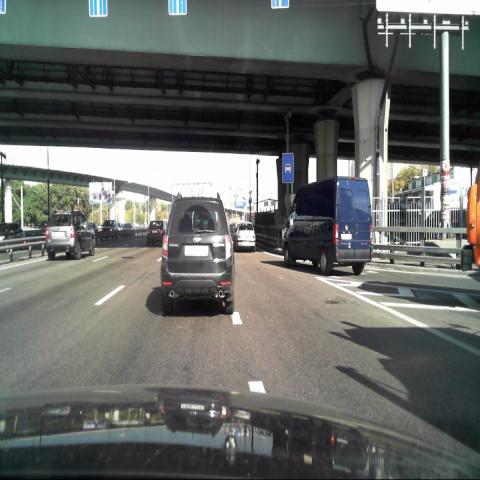5_3: (282, 154, 294, 182)
